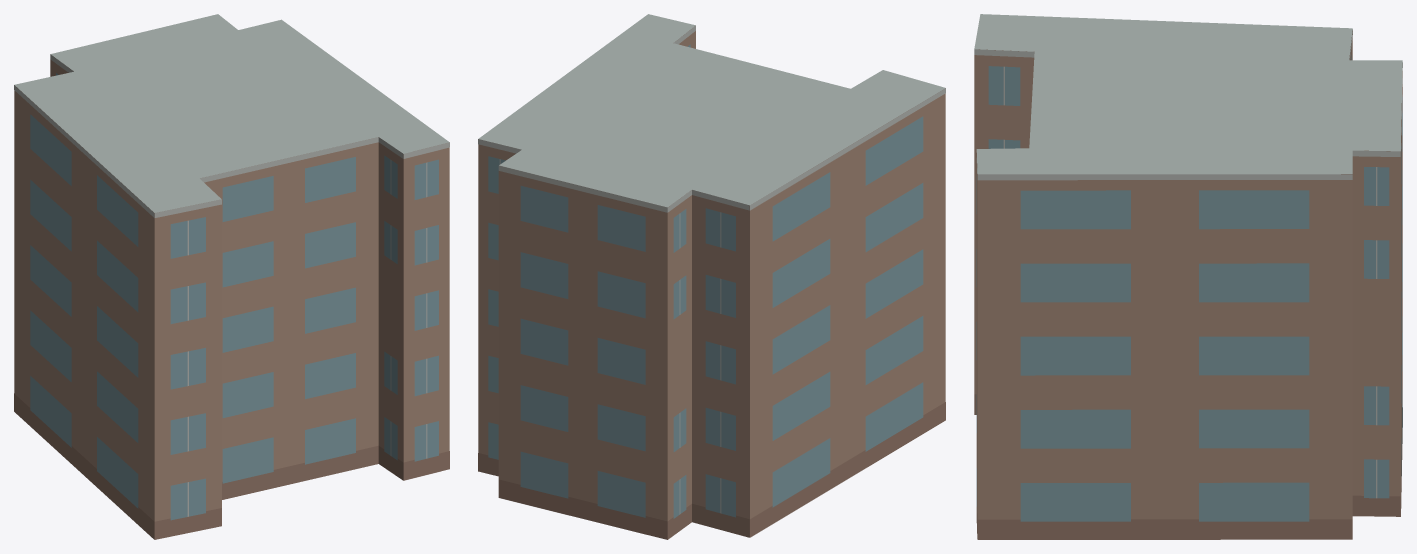
The model's file is survey-upis-32647454.glb.
3 renders of one model, left to right at view 1: azimuth 30°, elevation 25°; view 2: azimuth 150°, elevation 25°; view 3: azimuth 270°, elevation 25°, orthographic. The views are drawn at different scales.
Parts seen in each view (by area): view 1: survey-upis-32647454.tmp; view 2: survey-upis-32647454.tmp; view 3: survey-upis-32647454.tmp.
Part boxes in pixels (x1,y1,x2,y2): survey-upis-32647454.tmp: (14, 14, 449, 539); survey-upis-32647454.tmp: (478, 14, 945, 539); survey-upis-32647454.tmp: (974, 14, 1402, 539).
Size of the model in its own units: 14.36 by 15.25 by 16.21.
